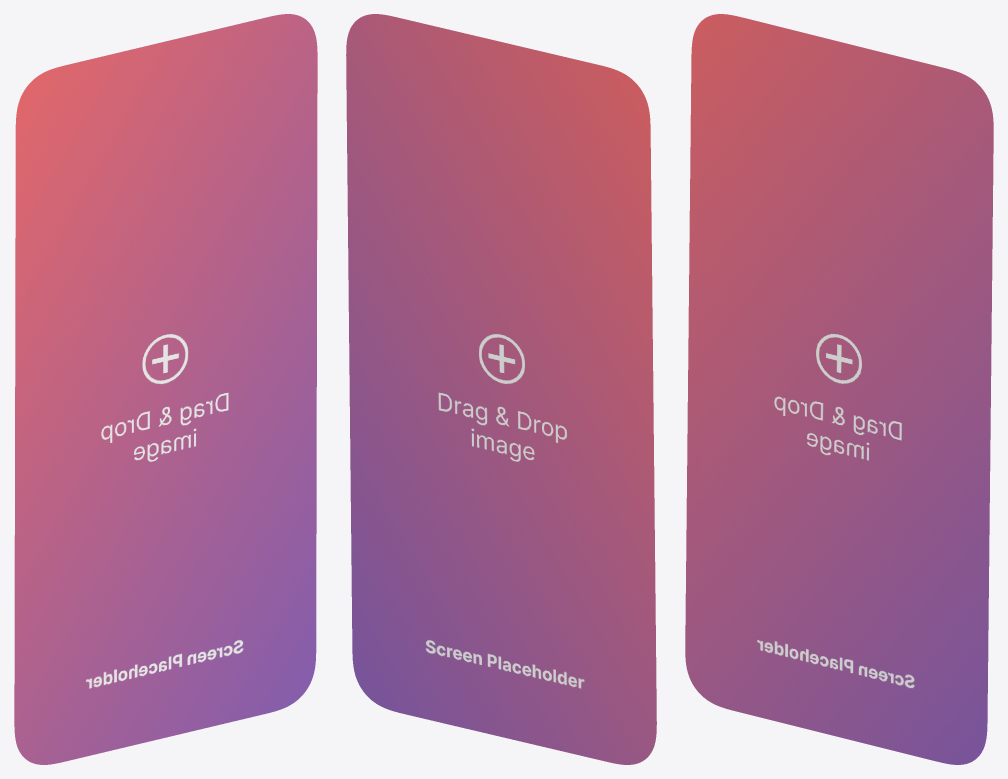
File: OnlyScreen.glb
3 renders of one model, left to right at view 1: azimuth 30°, elevation 25°; view 2: azimuth 150°, elevation 25°; view 3: azimuth 330°, elevation 25°, orthographic.
Visible parts, largest first — view 1: Screen; view 2: Screen; view 3: Screen.
Part boxes in pixels (x1,y1,x2,y2): Screen: (14,14,317,764); Screen: (346,14,656,764); Screen: (685,14,993,764).
Size of the model in its own units: 1.79 by 3.88 by 0.0318.
Materials: 1 (1 with a texture image).
